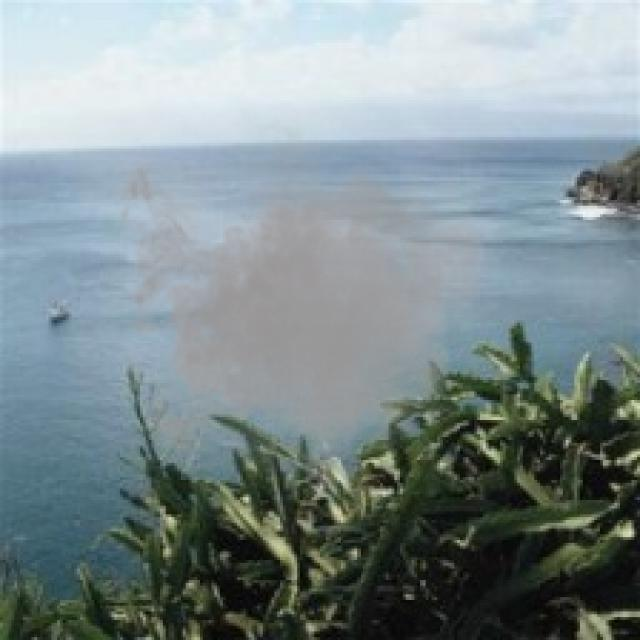smoke: (106, 103, 491, 514)
